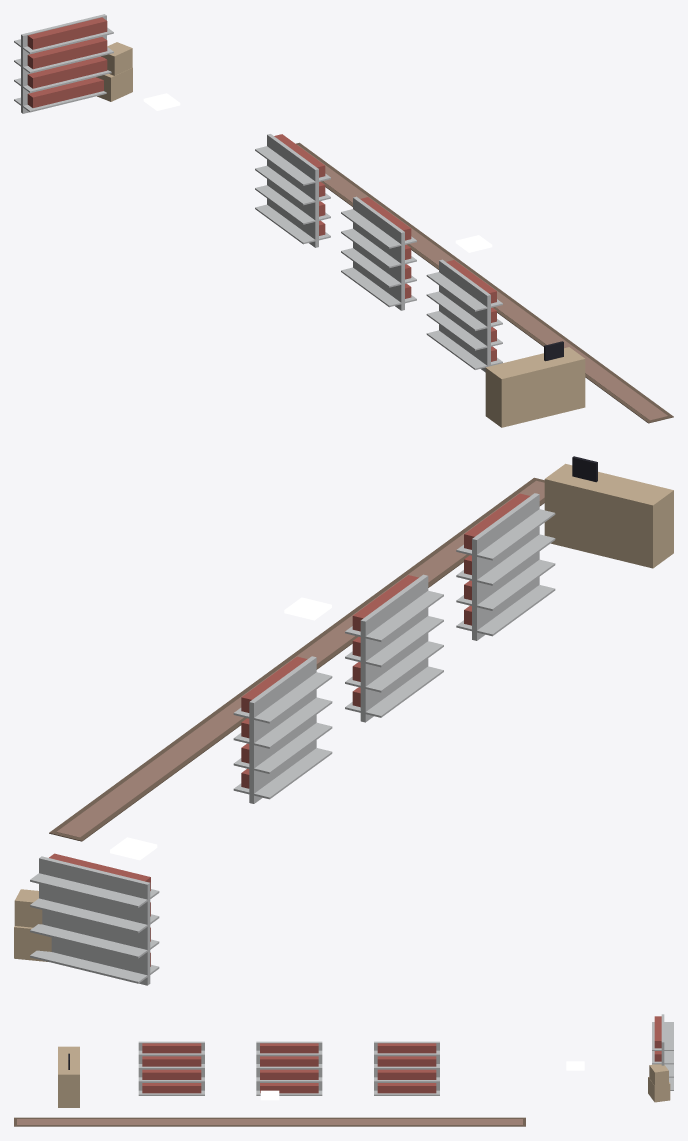
The model's file is fine-s0.glb.
3 views of the same model, one above another, from view 1: azimuth 30°, elevation 25°; view 2: azimuth 150°, elevation 25°; view 3: azimuth 270°, elevation 25° (orthographic). The views are drawn at different scales.
Visible parts, largest first — view 1: shelving.000, shop-counter.000, soft-s0, shelf.000, shelf.001, shelf.002, cardboard-box.000; view 2: shelving.000, shop-counter.000, soft-s0, shelf.001, shelf.000, shelf.002, cardboard-box.000; view 3: soft-s0, shelf.002, shelf.000, shelf.001, shop-counter.000, shelving.000, cardboard-box.000, ceiling-lamp.000.
Boxes of the visible parts, bbox=[...] form: shelving.000: bbox=[14, 14, 113, 113]; shop-counter.000: bbox=[485, 341, 585, 427]; soft-s0: bbox=[296, 142, 673, 423]; shelf.000: bbox=[255, 134, 330, 247]; shelf.001: bbox=[341, 196, 416, 310]; shelf.002: bbox=[426, 259, 502, 372]; cardboard-box.000: bbox=[96, 42, 132, 101]; shelving.000: bbox=[30, 853, 159, 985]; shop-counter.000: bbox=[544, 456, 673, 568]; soft-s0: bbox=[49, 477, 544, 841]; shelf.001: bbox=[345, 574, 443, 722]; shelf.000: bbox=[233, 656, 332, 803]; shelf.002: bbox=[456, 493, 555, 640]; cardboard-box.000: bbox=[14, 889, 51, 961]; soft-s0: bbox=[14, 1117, 525, 1126]; shelf.002: bbox=[138, 1041, 204, 1095]; shelf.000: bbox=[374, 1041, 439, 1095]; shelf.001: bbox=[256, 1041, 322, 1095]; shop-counter.000: bbox=[58, 1046, 79, 1107]; shelving.000: bbox=[652, 1014, 673, 1090]; cardboard-box.000: bbox=[648, 1064, 670, 1102]; ceiling-lamp.000: bbox=[260, 1090, 279, 1100].
Size of the model in its own units: 3.81 by 1.6 by 17.97.
